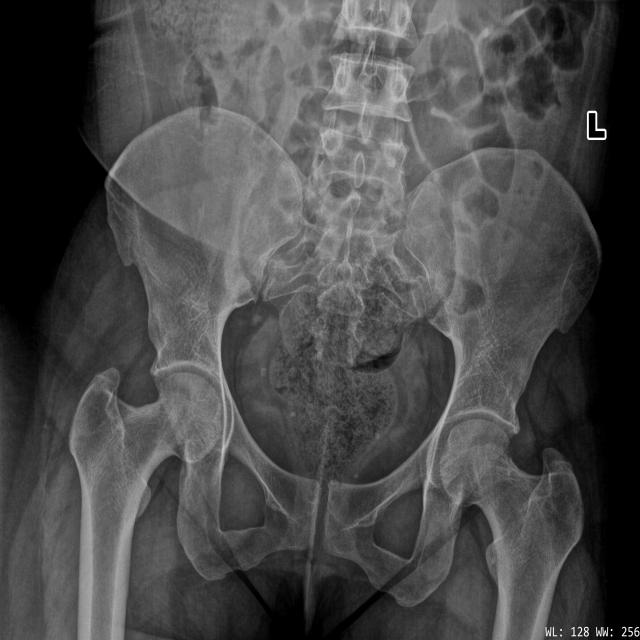normal-left: (439, 419, 585, 640)
normal-right: (68, 369, 221, 640)
